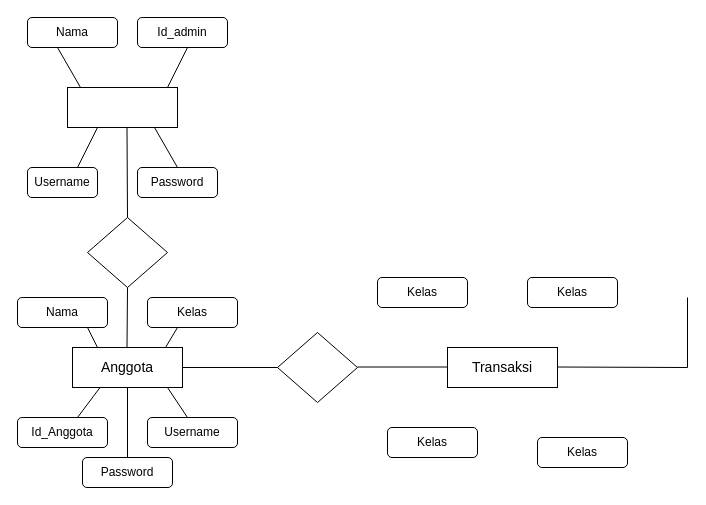
This 706x505 diagram has some shape labels left out. The shapes that lost their labels are listed below. From the top down, each one's centre as x and y in pixels, then its label:
At pixel 122 107: "Admin".
At pixel 127 252: "Input".
At pixel 317 367: "Melakukan".
